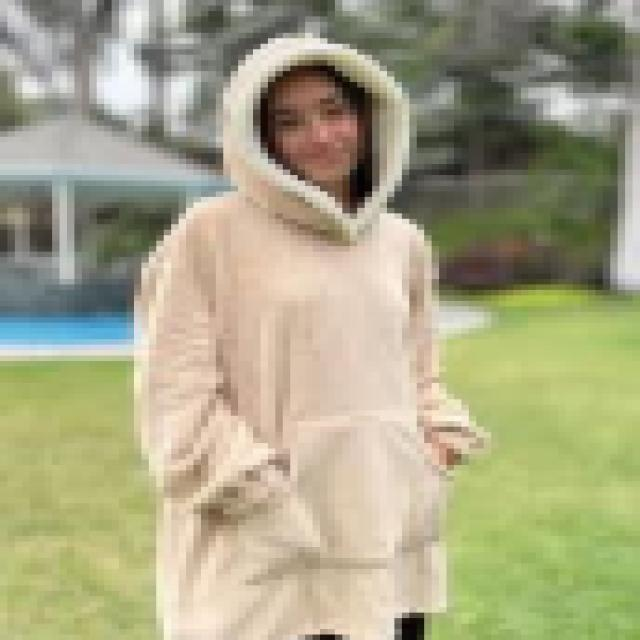4_capucha: (218, 37, 415, 248)
